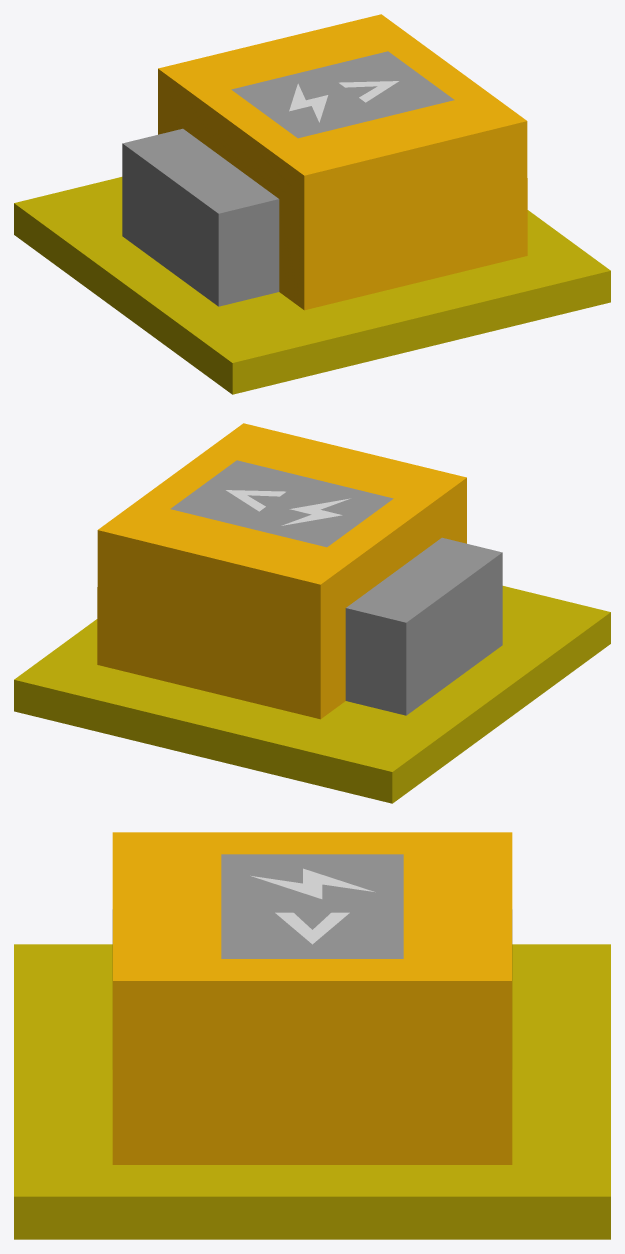
Rendered from epe_electric_sensor_relay.dae.
3 renders of one model, top to bottom at view 1: azimuth 30°, elevation 25°; view 2: azimuth 150°, elevation 25°; view 3: azimuth 270°, elevation 25°, orthographic. The views are drawn at different scales.
Parts seen in each view (by area): view 1: electric_sensor_relay; view 2: electric_sensor_relay; view 3: electric_sensor_relay.
Part boxes in pixels (left/top/right/bottom): electric_sensor_relay: left=14, top=14, right=610, bottom=394; electric_sensor_relay: left=14, top=423, right=610, bottom=803; electric_sensor_relay: left=14, top=832, right=610, bottom=1239.
Size of the model in its own units: 0.25 by 0.25 by 0.105.
